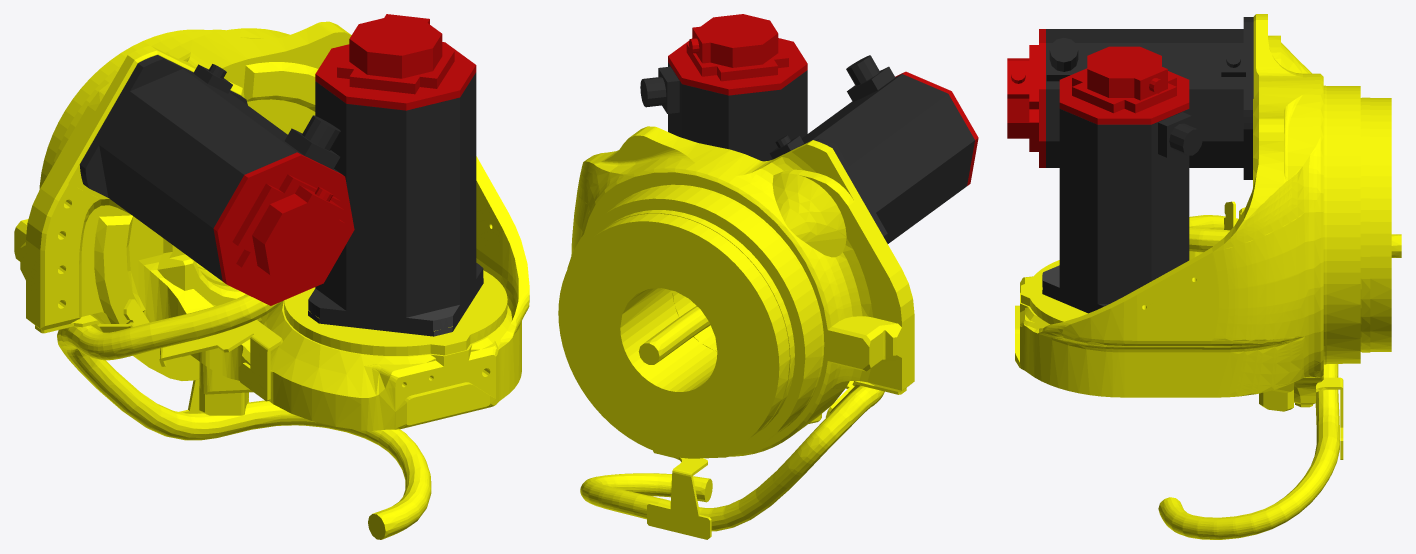
3 views of the same model, side by side, from view 1: azimuth 30°, elevation 25°; view 2: azimuth 150°, elevation 25°; view 3: azimuth 270°, elevation 25° (orthographic). The views are drawn at different scales.
Visible parts, largest first — view 1: node; view 2: node; view 3: node.
Boxes of the visible parts, left/top/right/bottom form: node: left=14, top=14, right=529, bottom=539; node: left=558, top=14, right=978, bottom=539; node: left=1007, top=14, right=1401, bottom=539.
Size of the model in its own units: 402 by 502 by 396.
